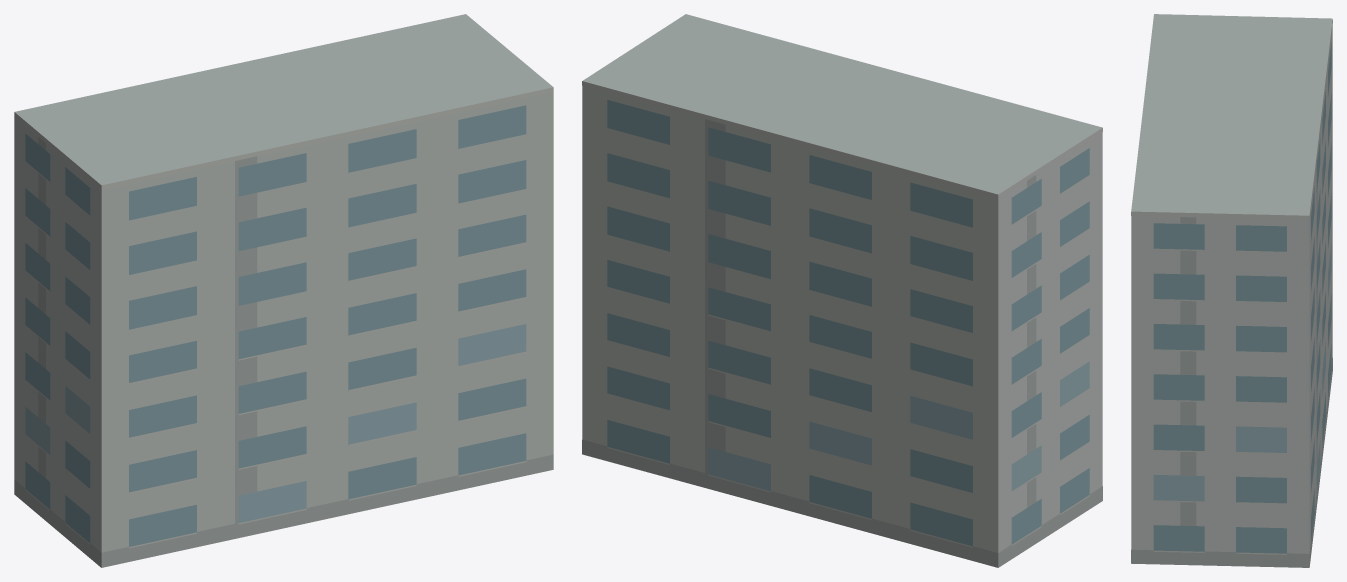
The model's file is survey-upis-32753847.glb.
3 renders of one model, left to right at view 1: azimuth 30°, elevation 25°; view 2: azimuth 150°, elevation 25°; view 3: azimuth 270°, elevation 25°, orthographic. The views are drawn at different scales.
Parts seen in each view (by area): view 1: survey-upis-32753847.tmp; view 2: survey-upis-32753847.tmp; view 3: survey-upis-32753847.tmp.
Boxes of the visible parts, x1,y1,x2,y2 form: survey-upis-32753847.tmp: (14, 14, 553, 567); survey-upis-32753847.tmp: (582, 14, 1102, 567); survey-upis-32753847.tmp: (1131, 14, 1332, 567).
Size of the model in its own units: 24.57 by 20 by 10.39.
